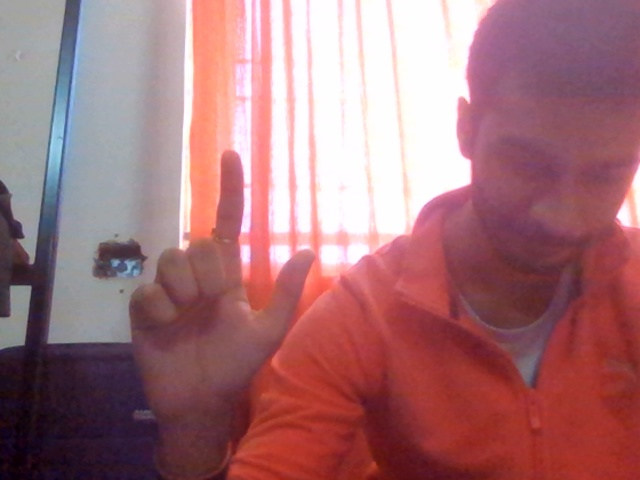L: (99, 140, 339, 477)
